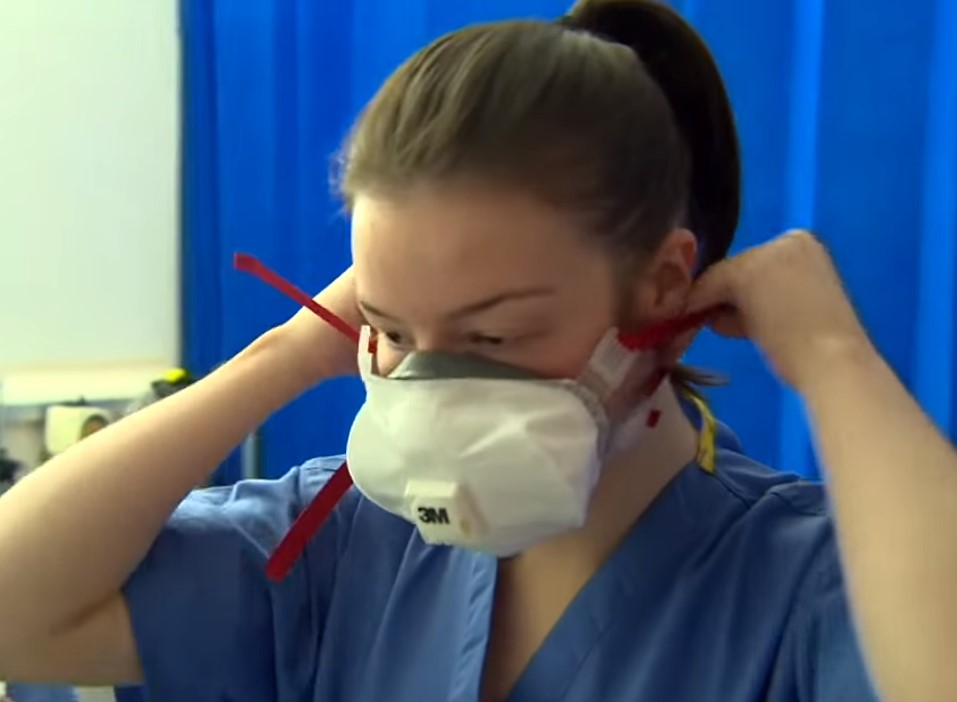face_with_mask: (337, 86, 712, 554)
